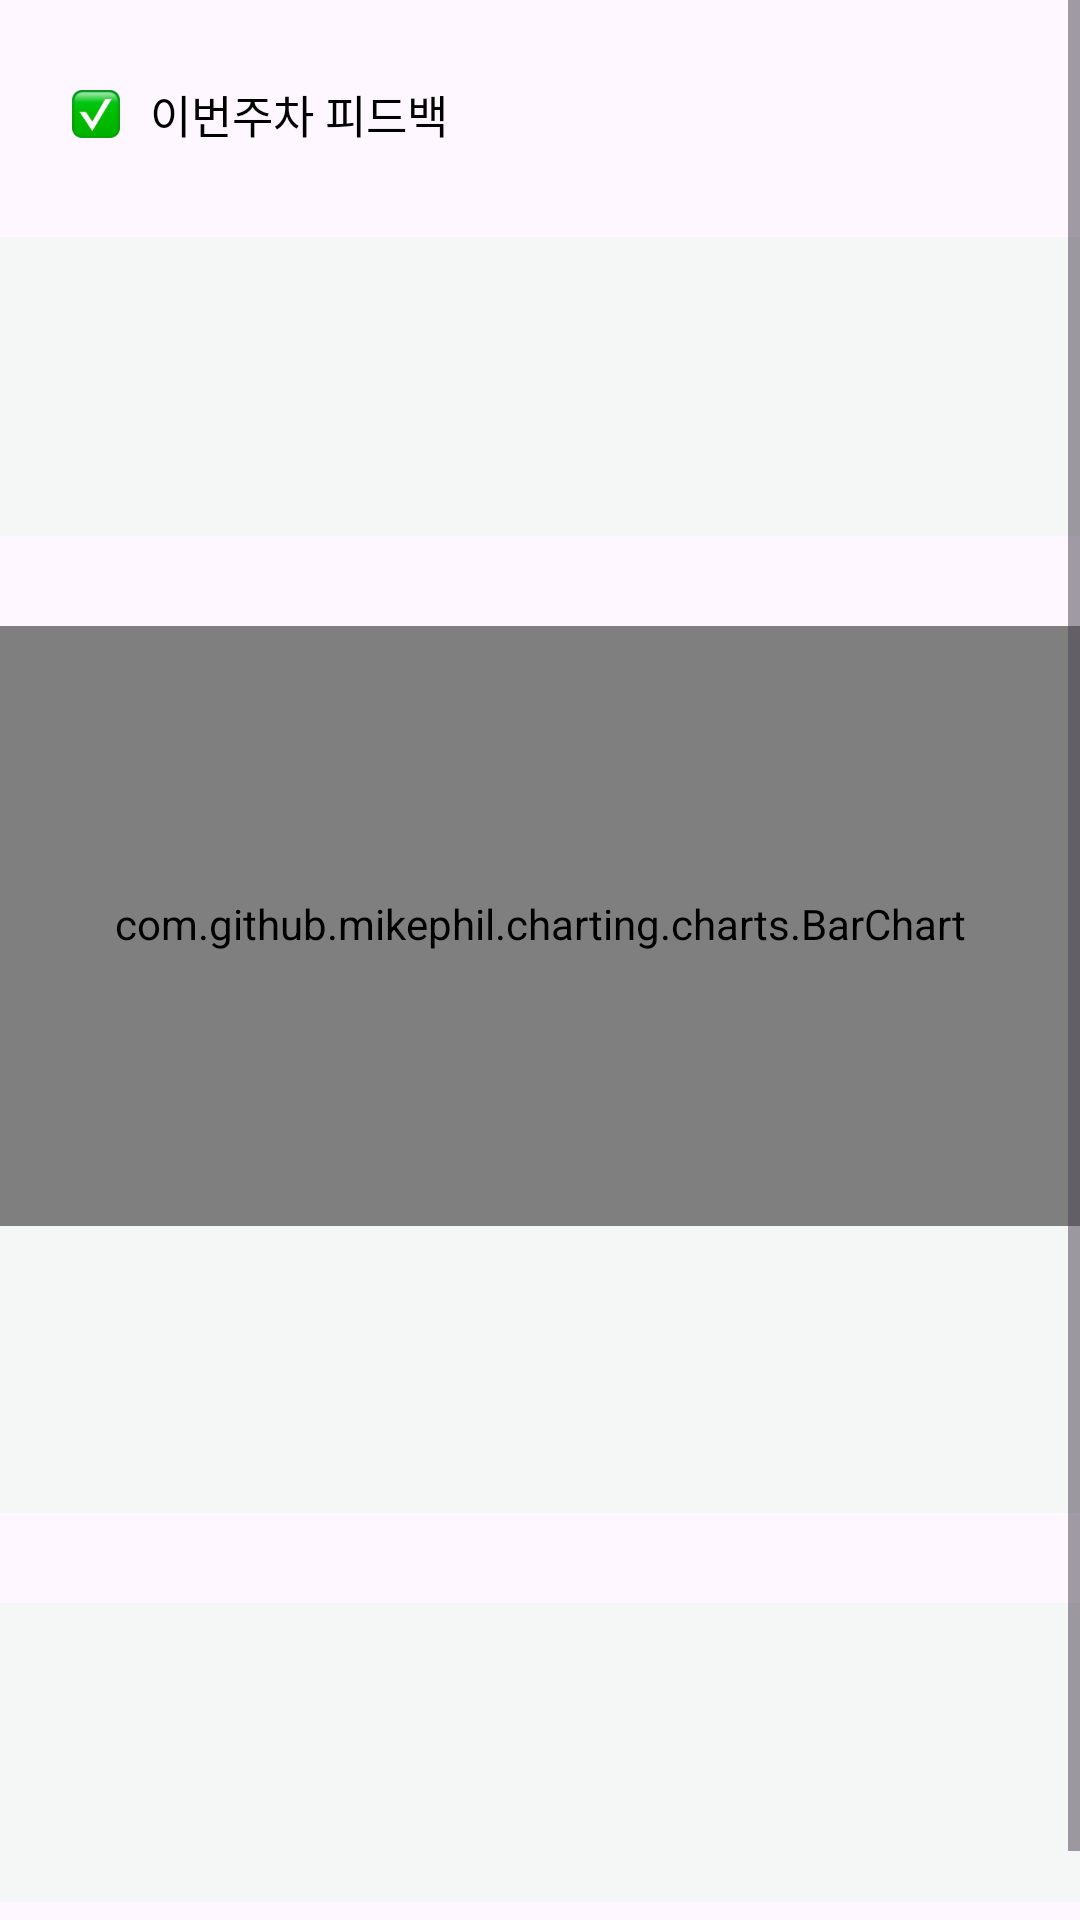

Where icons sit on this 1080*1920 app screen, as box=[x1, y1, x2, y2]:
check imogi: box=[72, 90, 120, 138]
